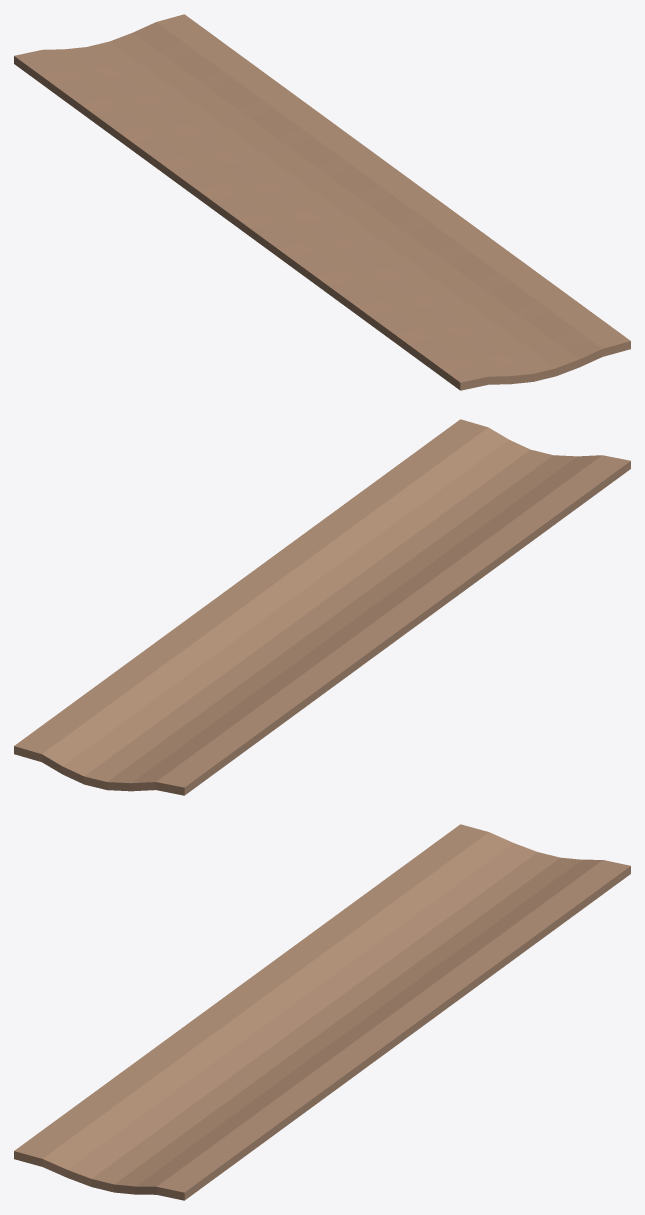
The model's file is Suelo004.fbx.
The picture shows the model from 3 angles, top to bottom: view 1: azimuth 30°, elevation 25°; view 2: azimuth 150°, elevation 25°; view 3: azimuth 330°, elevation 25°; orthographic projection.
Parts seen in each view (by area): view 1: Cube.014; view 2: Cube.014; view 3: Cube.014.
Part boxes in pixels (box(x1,y1,x2,y2)): Cube.014: box(14, 14, 630, 390); Cube.014: box(14, 419, 630, 795); Cube.014: box(14, 824, 630, 1200).
Size of the model in its own units: 441 by 47.57 by 2008.
